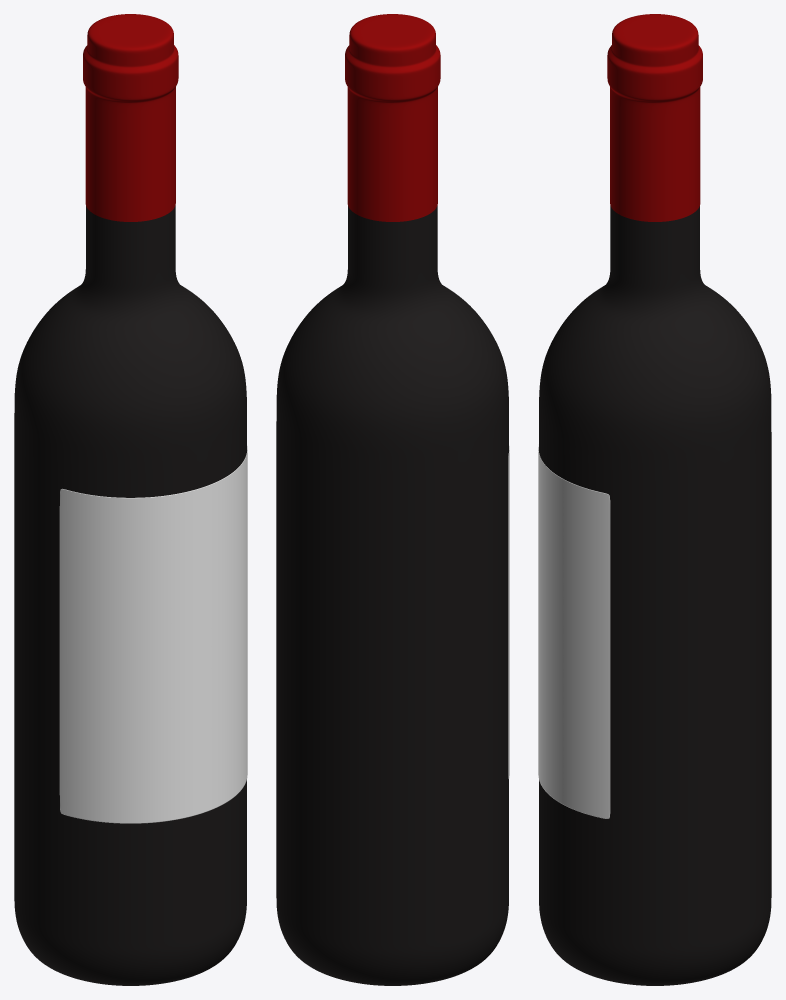
File: wine_bottle.glb
3 renders of one model, left to right at view 1: azimuth 30°, elevation 25°; view 2: azimuth 150°, elevation 25°; view 3: azimuth 270°, elevation 25°, orthographic.
Visible parts, largest first — view 1: Object_5, Object_13, Object_11; view 2: Object_5, Object_11, Object_13; view 3: Object_5, Object_13, Object_11.
Boxes of the visible parts, x1=… form: Object_5: x1=14, y1=205, x2=246, y2=985; Object_13: x1=59, y1=445, x2=247, y2=823; Object_11: x1=83, y1=14, x2=178, y2=221; Object_5: x1=276, y1=206, x2=508, y2=985; Object_11: x1=345, y1=14, x2=440, y2=221; Object_13: x1=508, y1=445, x2=509, y2=778; Object_5: x1=539, y1=205, x2=771, y2=985; Object_13: x1=538, y1=445, x2=610, y2=818; Object_11: x1=607, y1=14, x2=702, y2=221.
Bounding box in the file's own units: 0.0736 × 0.32 × 0.0737.
